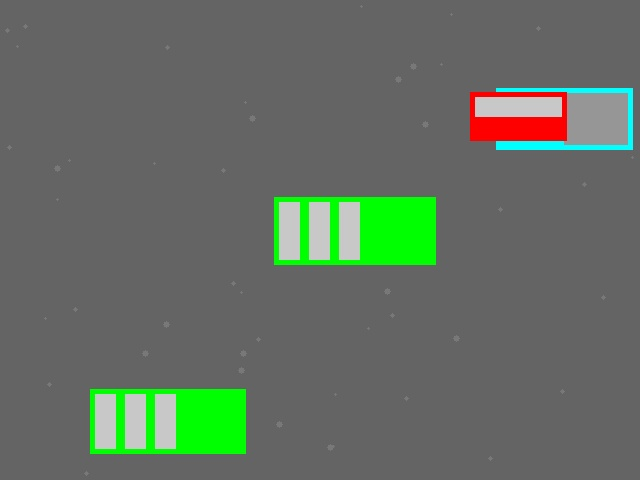bus: (274, 197, 435, 264), (90, 389, 245, 453)
car: (470, 92, 566, 140)
truck: (496, 88, 632, 149)
